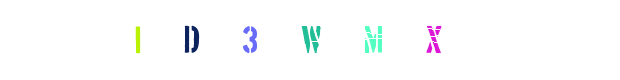3: (205, 0, 285, 80)
D: (151, 0, 231, 80)
I: (98, 0, 178, 80)
M: (301, 0, 381, 80)
W: (270, 0, 350, 80)
X: (393, 0, 473, 80)
